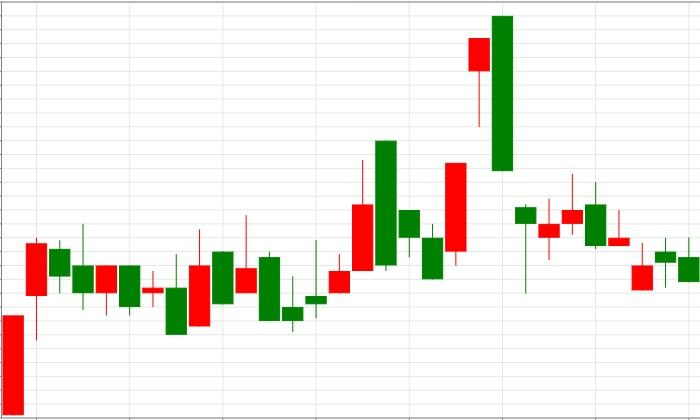bearish_engulfing_fall: (398, 16, 514, 279)
